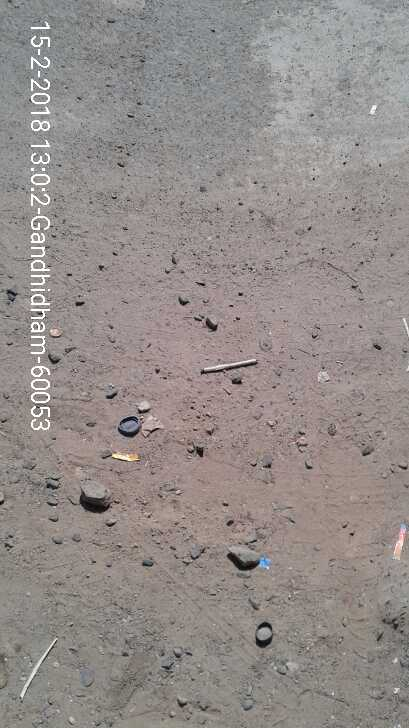reject: (185, 351, 282, 454)
